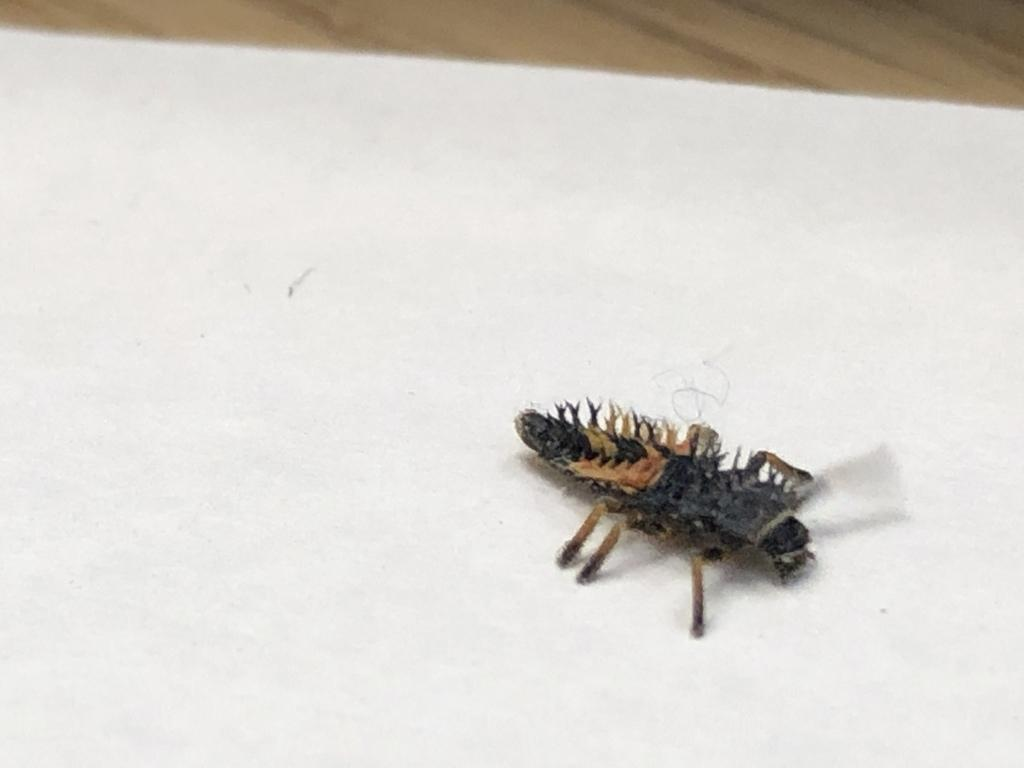ladybug: (511, 393, 821, 639)
